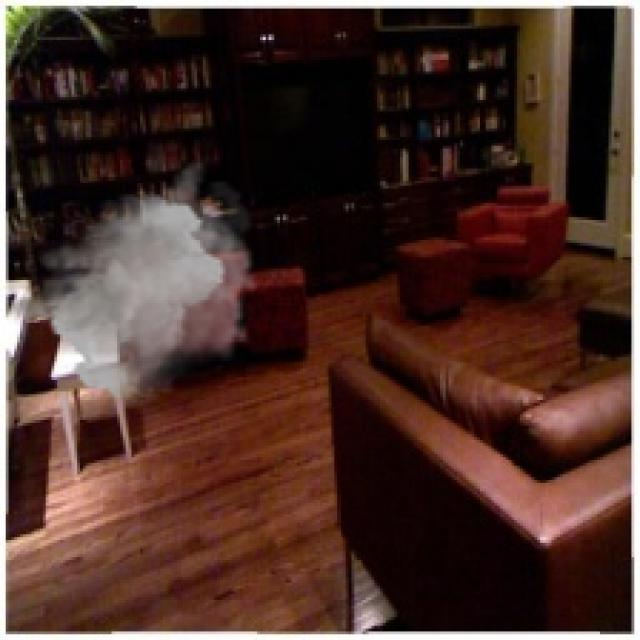smoke: (0, 160, 260, 403)
